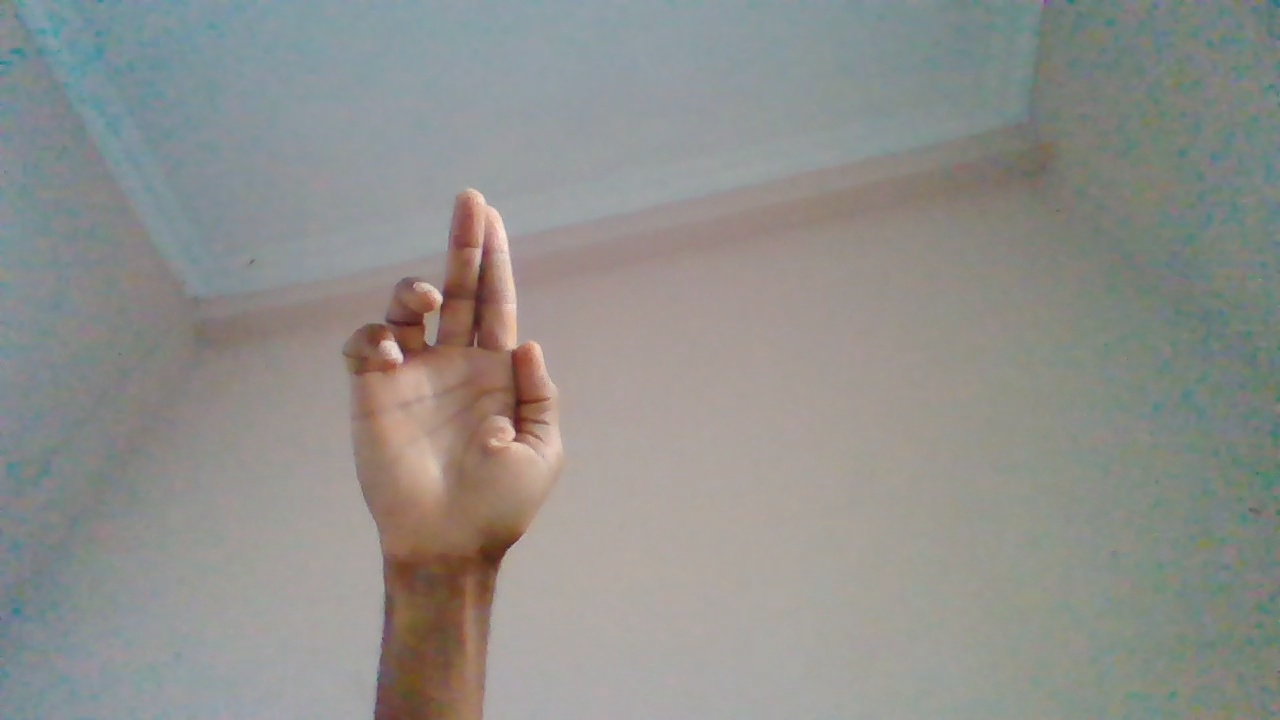gne: (343, 184, 579, 648)
